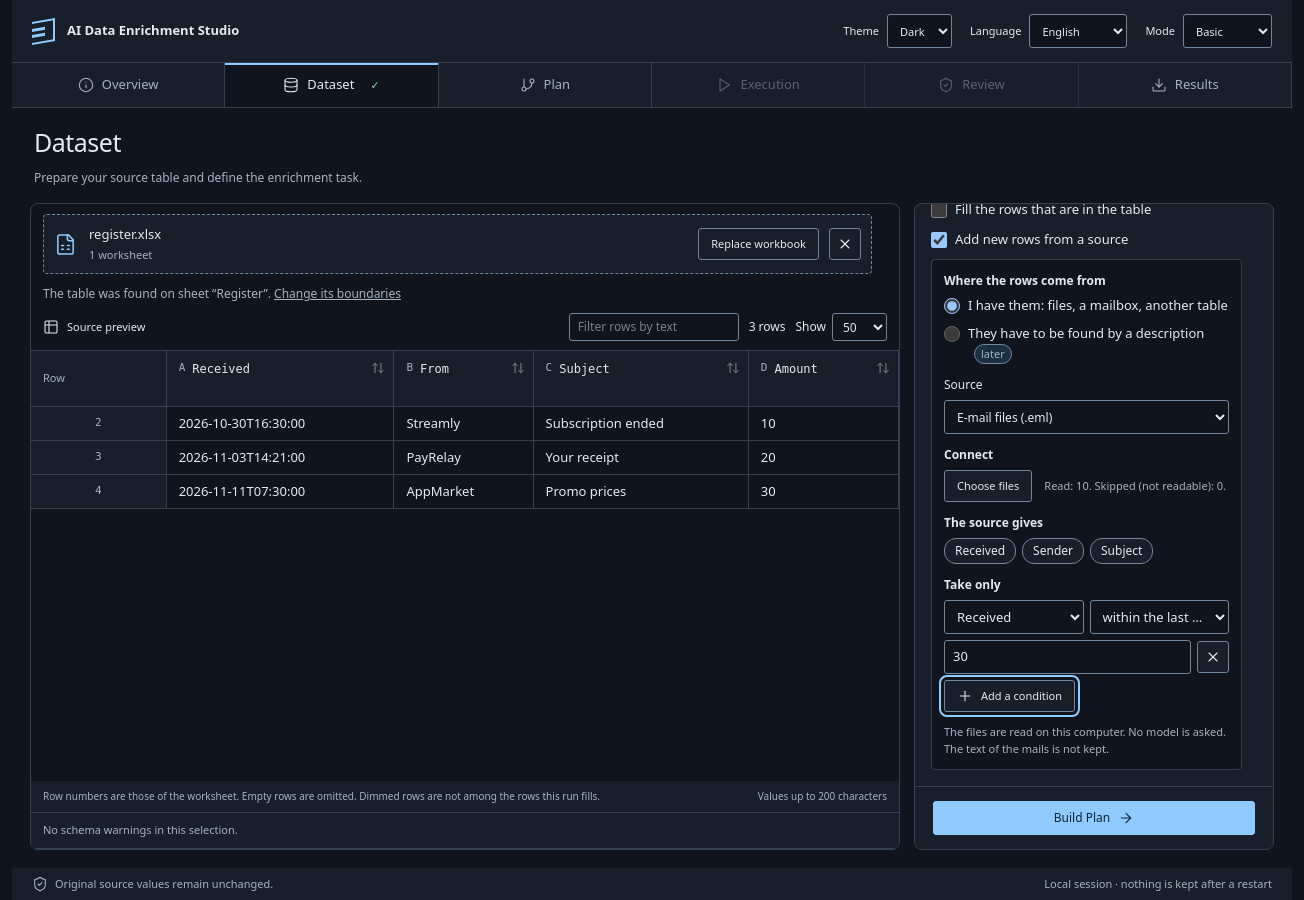
it: builds the plan with nothing mapped, and the conditions the person set
Earlier steps of the test are not shown.
(page scrolled)
Select "on or after" in the dropdown named "Condition 1" at (1159, 617), box [1090,600,1229,634]
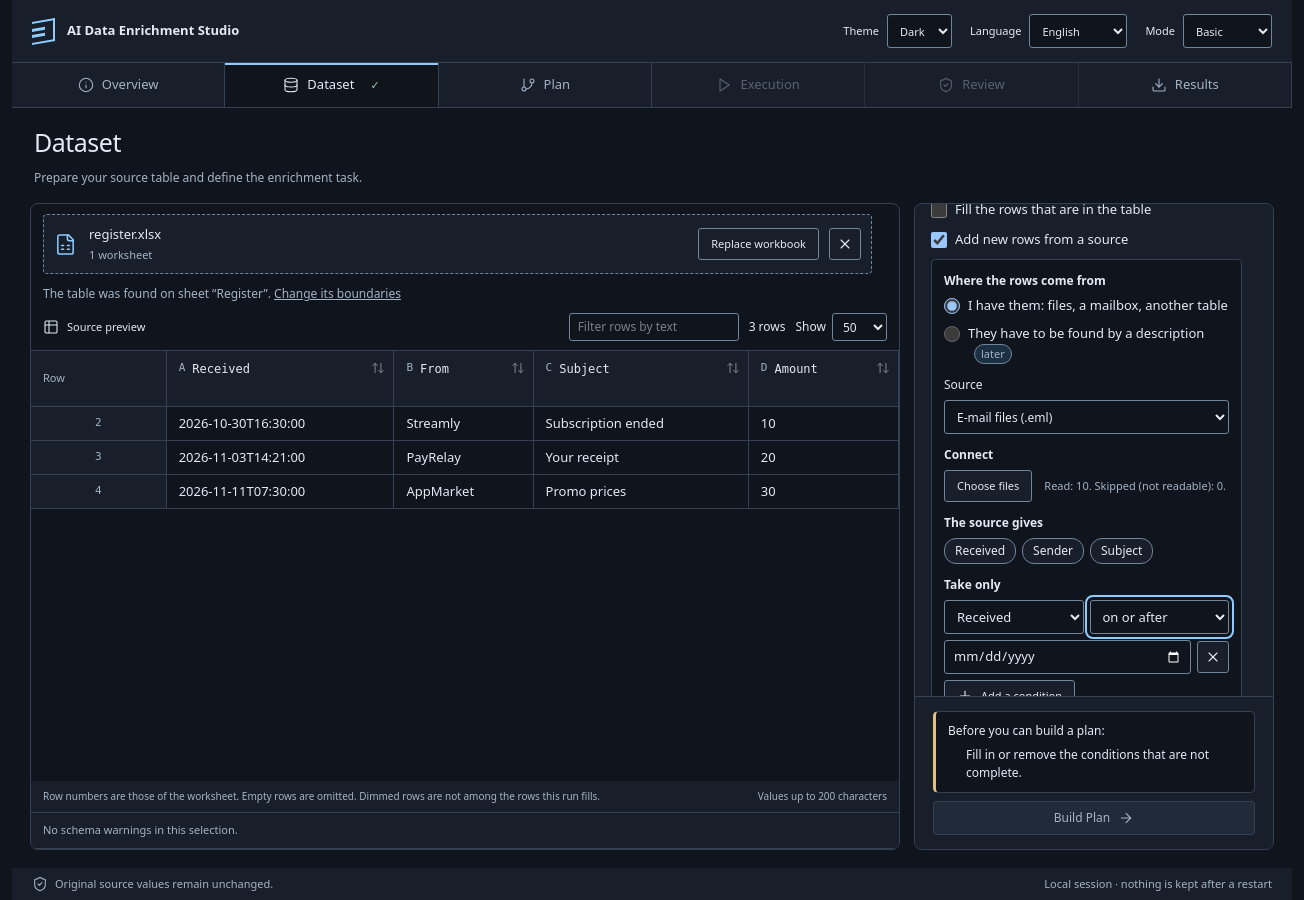
Now the button "Build Plan" is disabled, box [933,800,1255,834]
Now the list item "Fill in or remove the conditions that are not complete." is shown, box [966,746,1242,782]
Type "2026-11-01" into the date field named "Value of condition 1".
click(1068, 657); type("2026-11-01")  # box [944,640,1191,674]
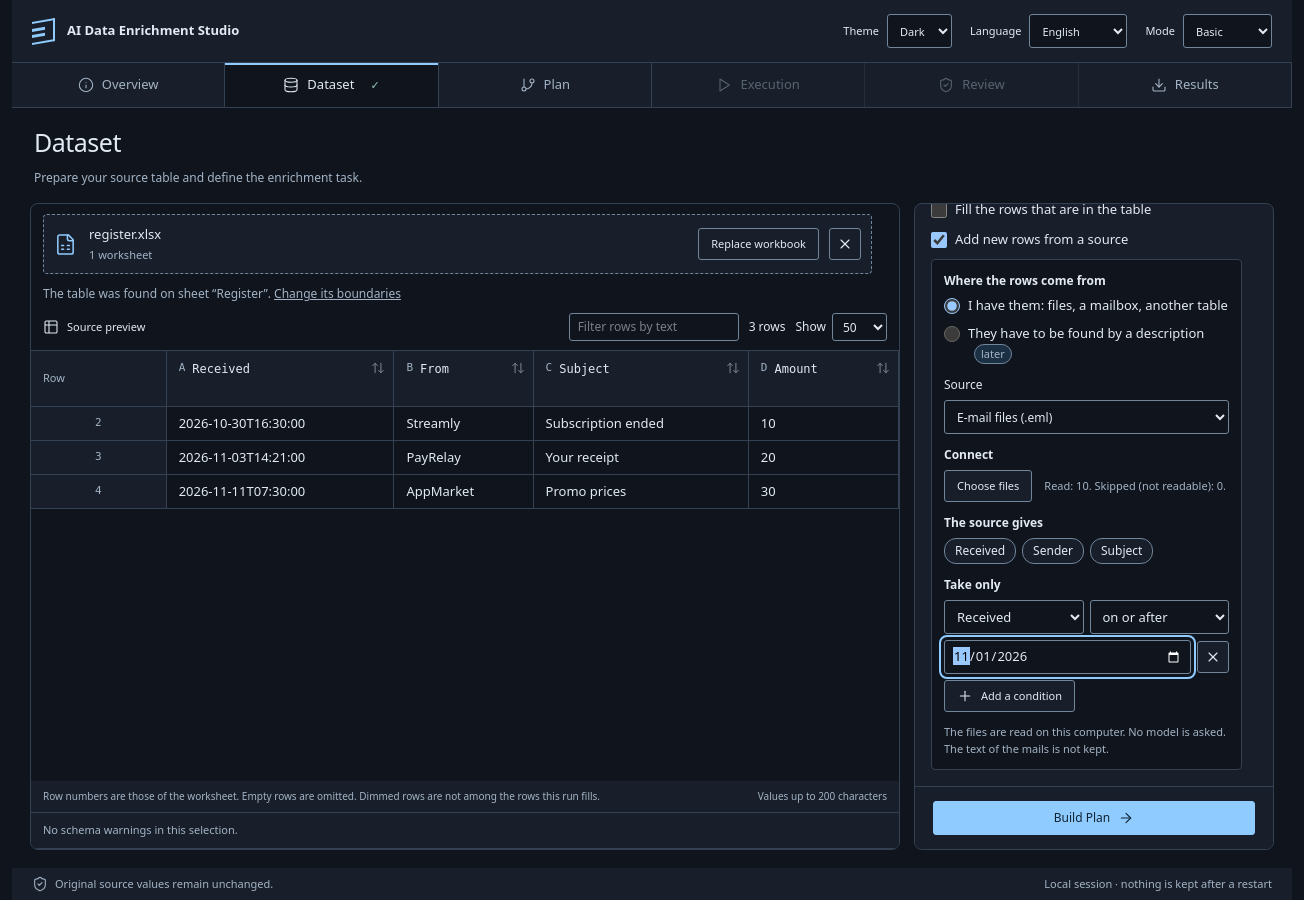
Click the button "Build Plan".
click(1094, 818)  # box [933,800,1255,834]
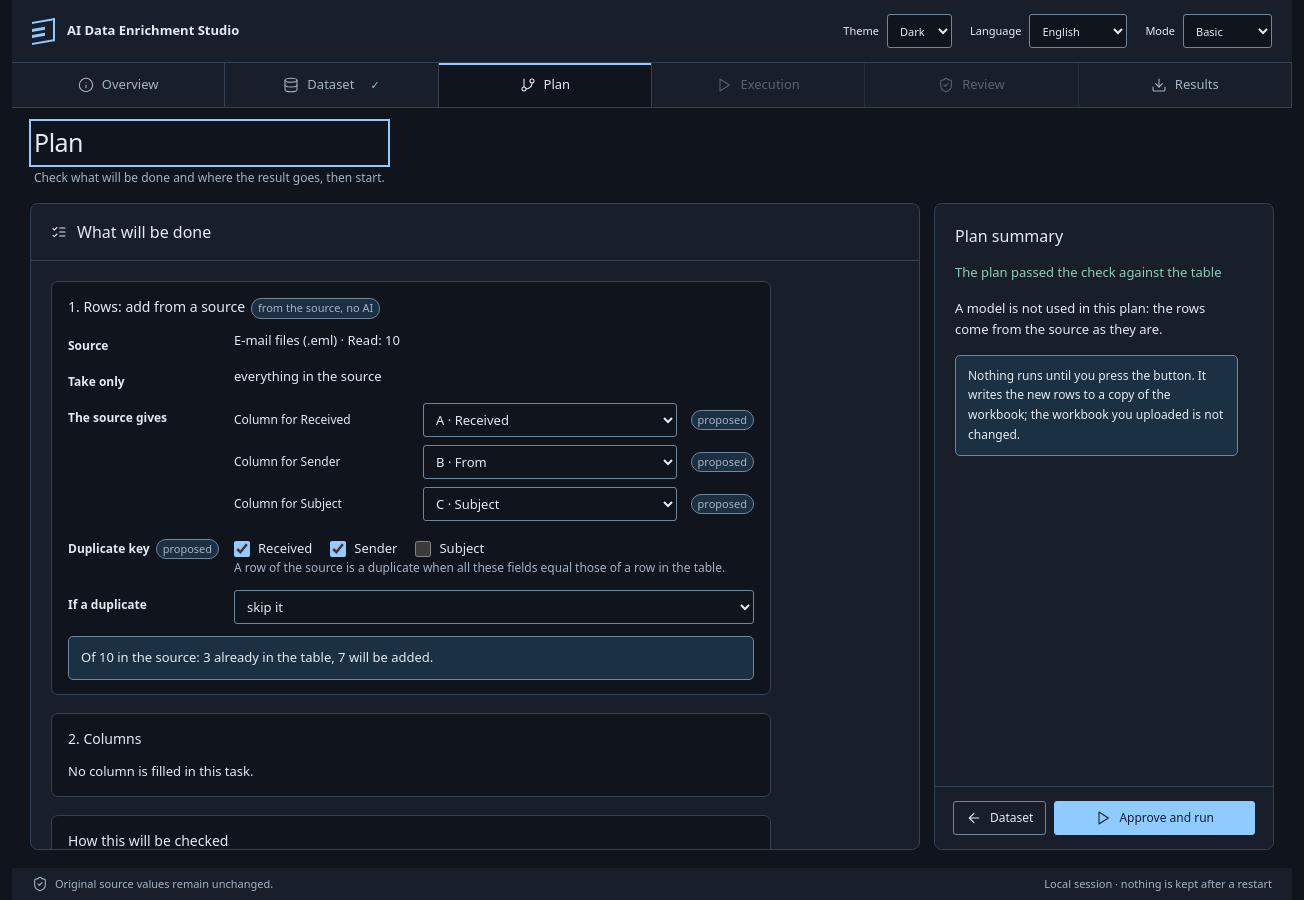
Now the element with test id "rows-plan-rows" is shown, box [51,281,771,694]
